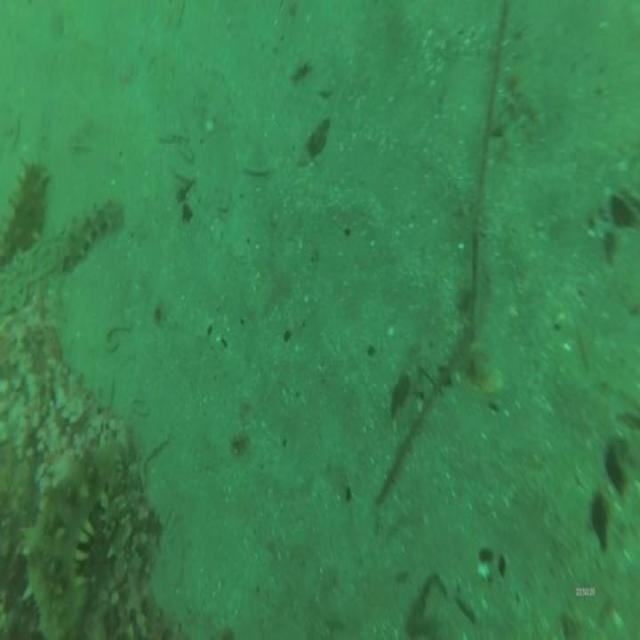holothurian: (18, 431, 130, 640), (52, 193, 127, 283), (0, 158, 51, 273)
